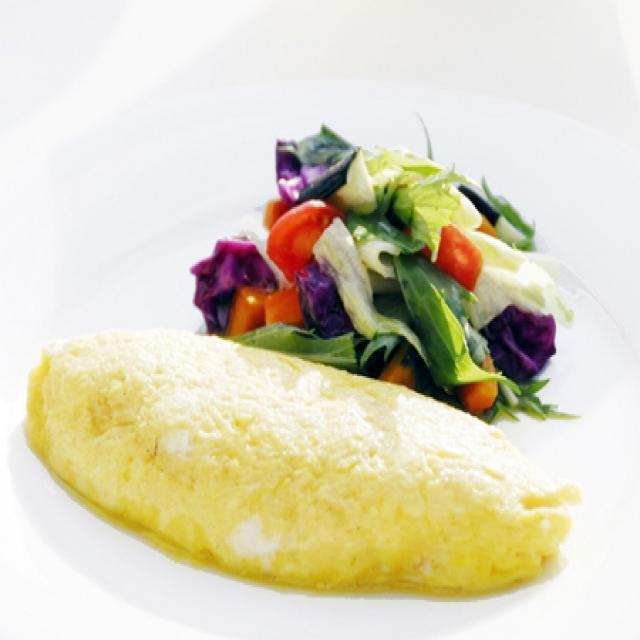Omelet: (23, 328, 580, 608), (211, 117, 575, 408)
